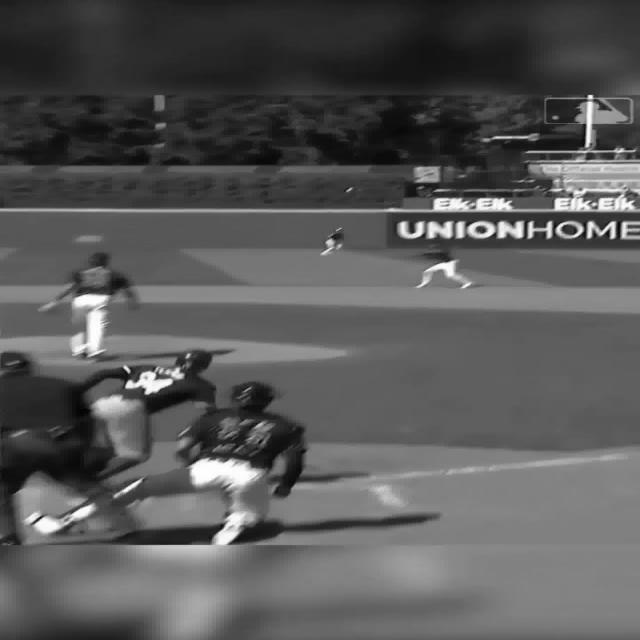baseball: (344, 186, 354, 192)
baseball_glove: (36, 300, 58, 312)
shoe: (30, 500, 96, 535), (210, 512, 258, 545), (24, 512, 76, 535), (103, 502, 135, 538), (85, 349, 106, 357), (458, 281, 472, 289)
